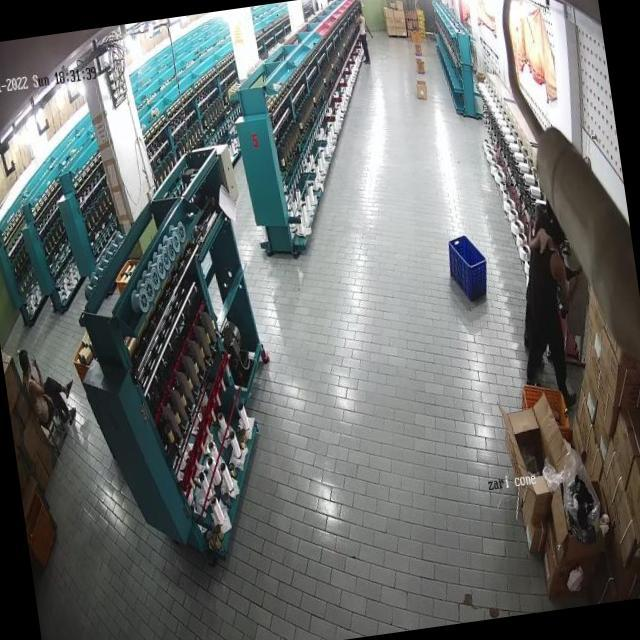person: (507, 216, 575, 396), (15, 339, 80, 434), (352, 7, 374, 68)
